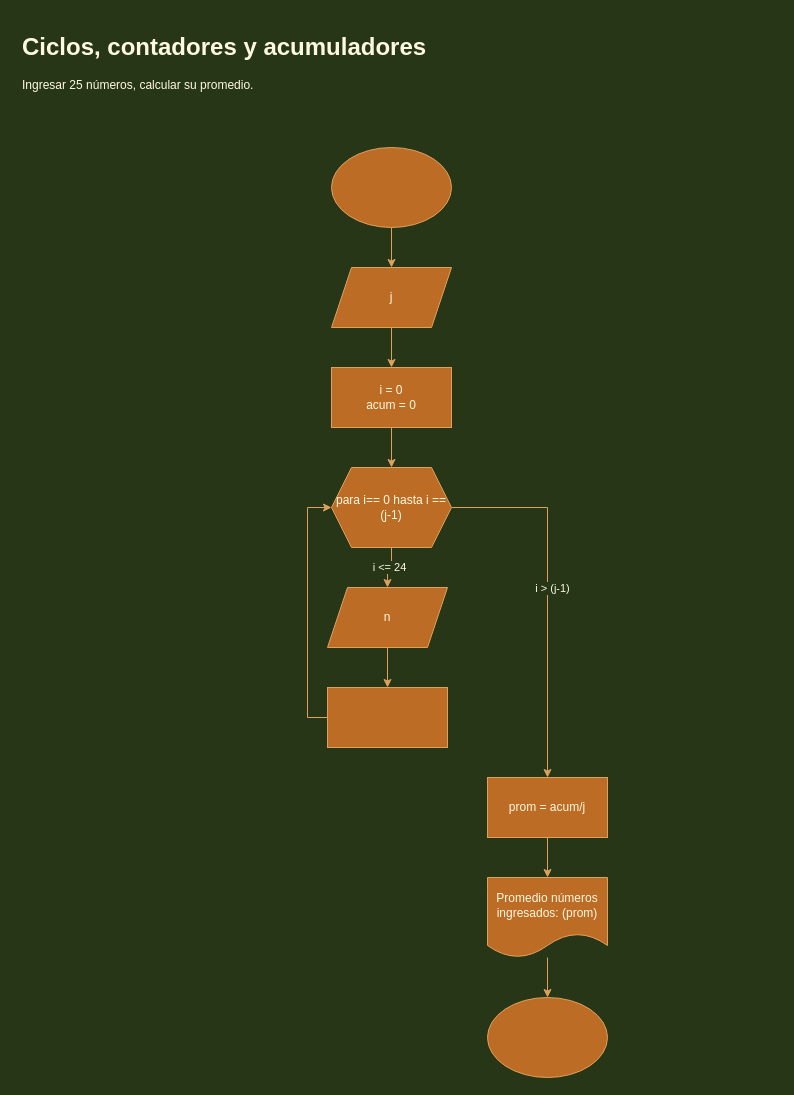
Some shapes in this 794 by 1095 pixel diagram are drawn without their labels. The centre of each missing label's shape, as x and y in pixels:
acum += n: point (387, 717)
fin: point (547, 1037)
inicio: point (391, 187)
